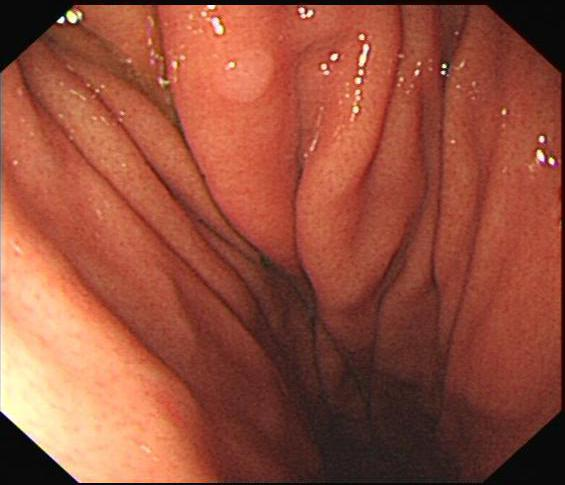Polyp: (203, 33, 297, 115)
